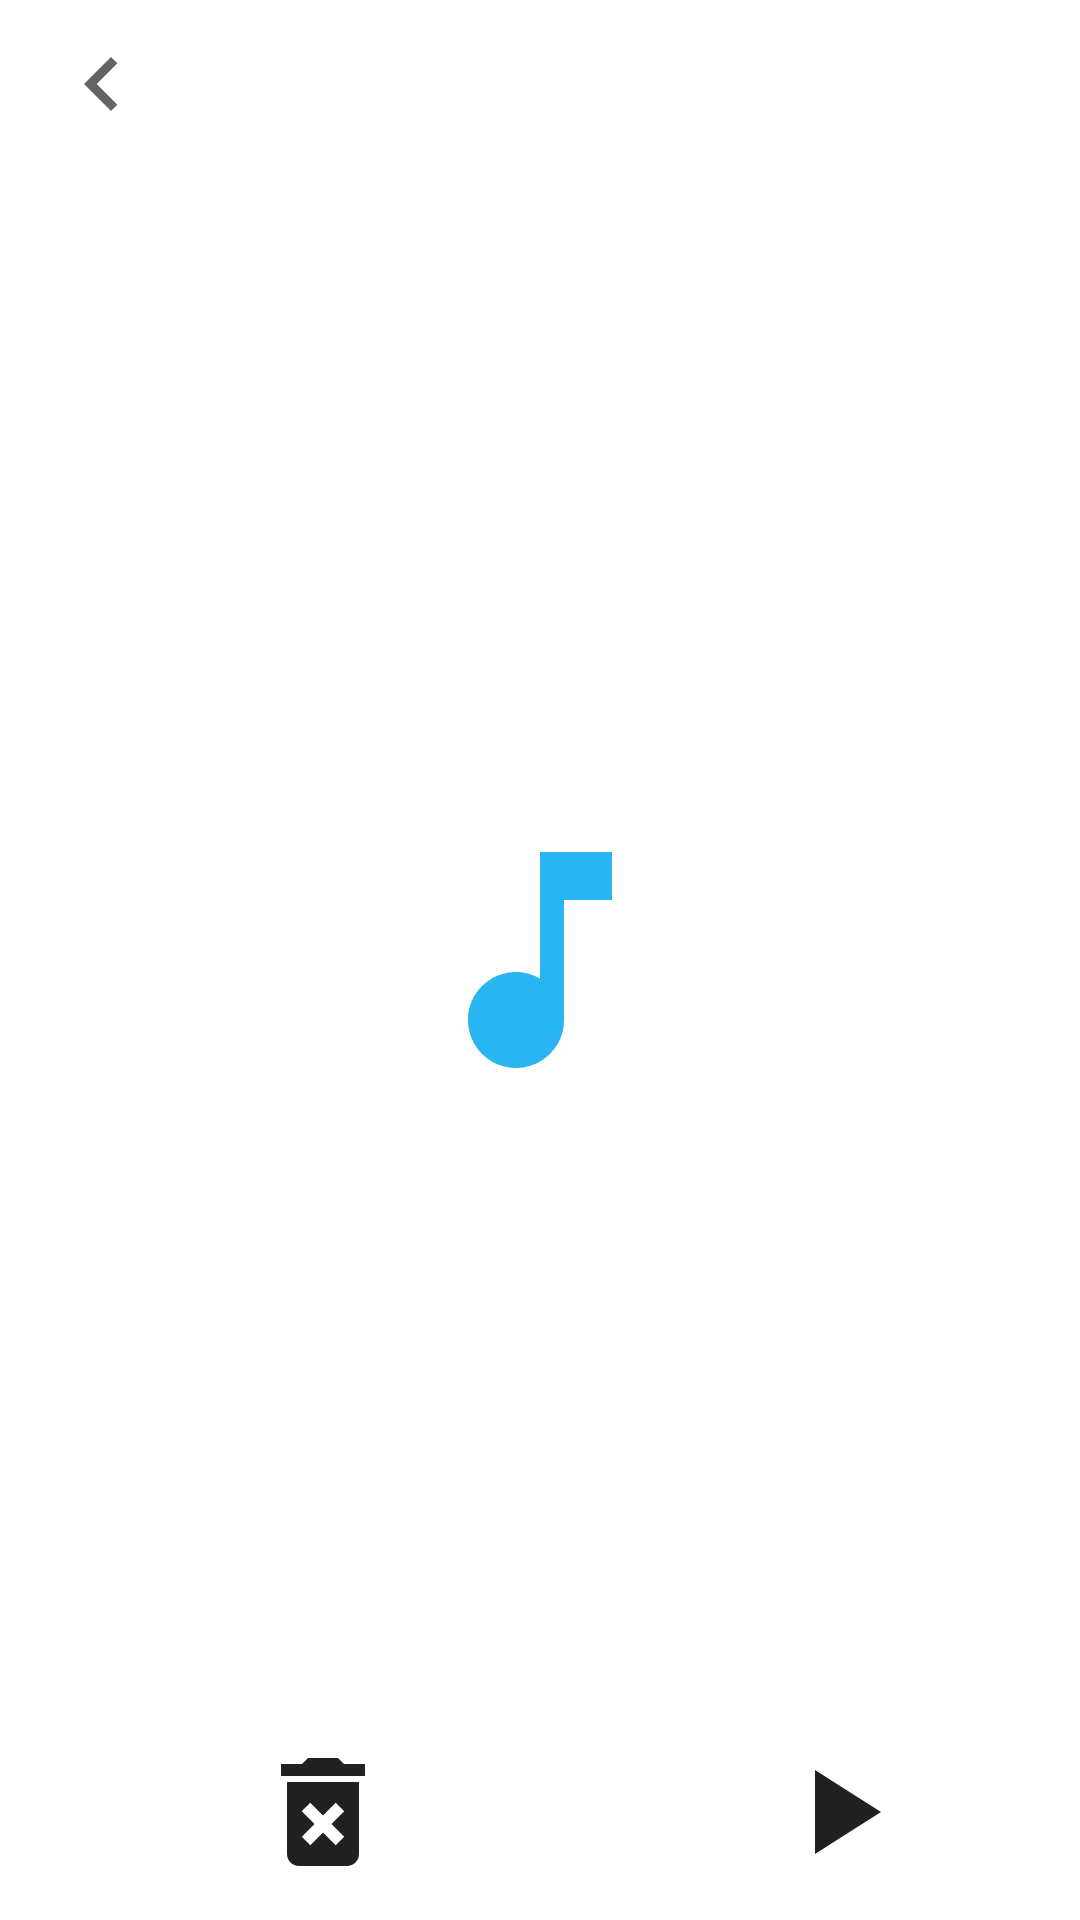

Point at icon controls on the screen. Image size 1080 × 1920, points as [x,y].
delete forever: [323,1812]
detail arrow left: [100,84]
play arrow: [848,1812]
